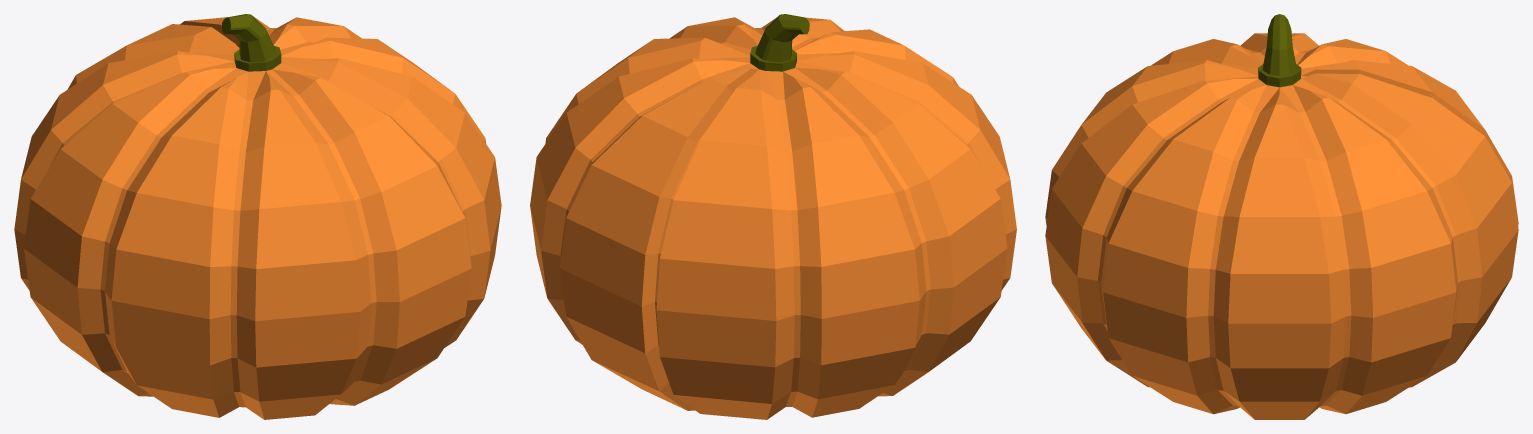
The model's file is pumpkin.glb.
The picture shows the model from 3 angles, left to right: view 1: azimuth 30°, elevation 25°; view 2: azimuth 150°, elevation 25°; view 3: azimuth 270°, elevation 25°; orthographic projection. The views are drawn at different scales.
Parts seen in each view (by area): view 1: pumpkin; view 2: pumpkin; view 3: pumpkin.
Boxes of the visible parts, bbox=[...] form: pumpkin: bbox=[14, 14, 501, 419]; pumpkin: bbox=[530, 14, 1016, 419]; pumpkin: bbox=[1045, 14, 1518, 419].
Bounding box in the file's own units: 1.89 × 1.63 × 1.95.
1 material, 1 textured.
